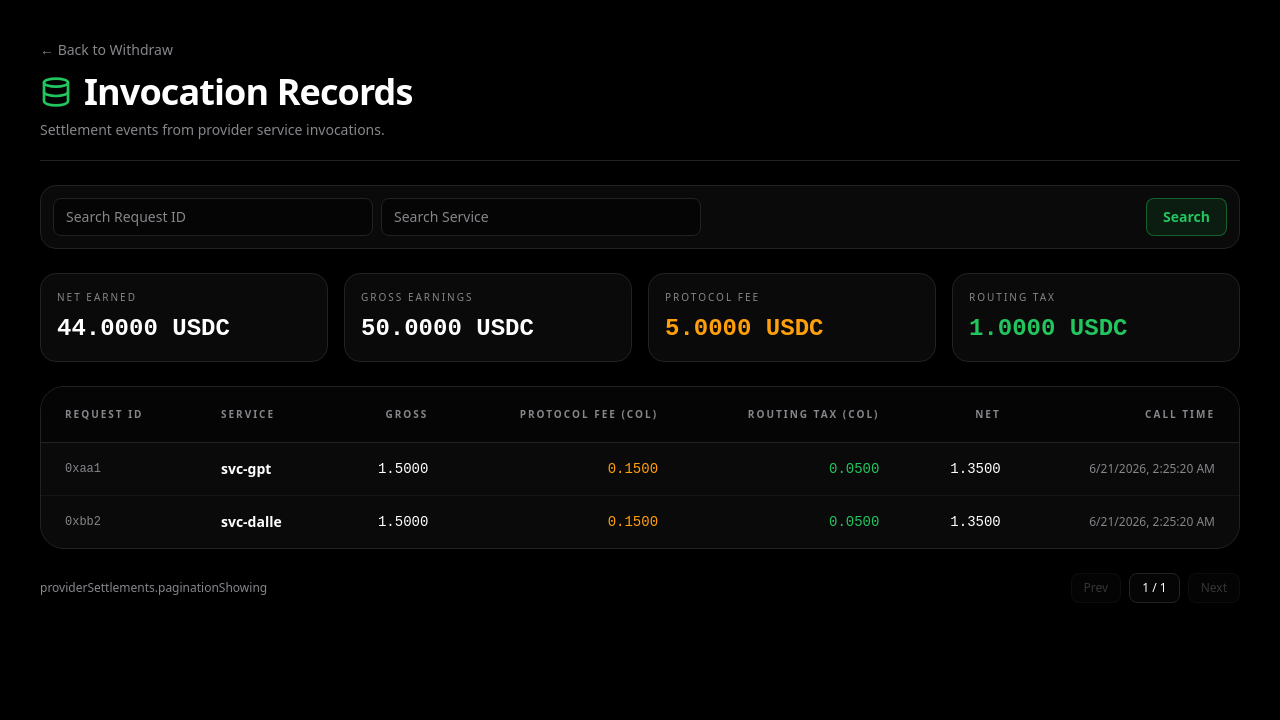
Scenario: ProviderWithdrawHistoryPage (Invocation Records) › filters by service name
Check: the text "0xaa1" is shown, box [41,442,197,496]
Type "dalle" into the field with placeholder "Search Service" at (541, 217), box [381,198,701,236]
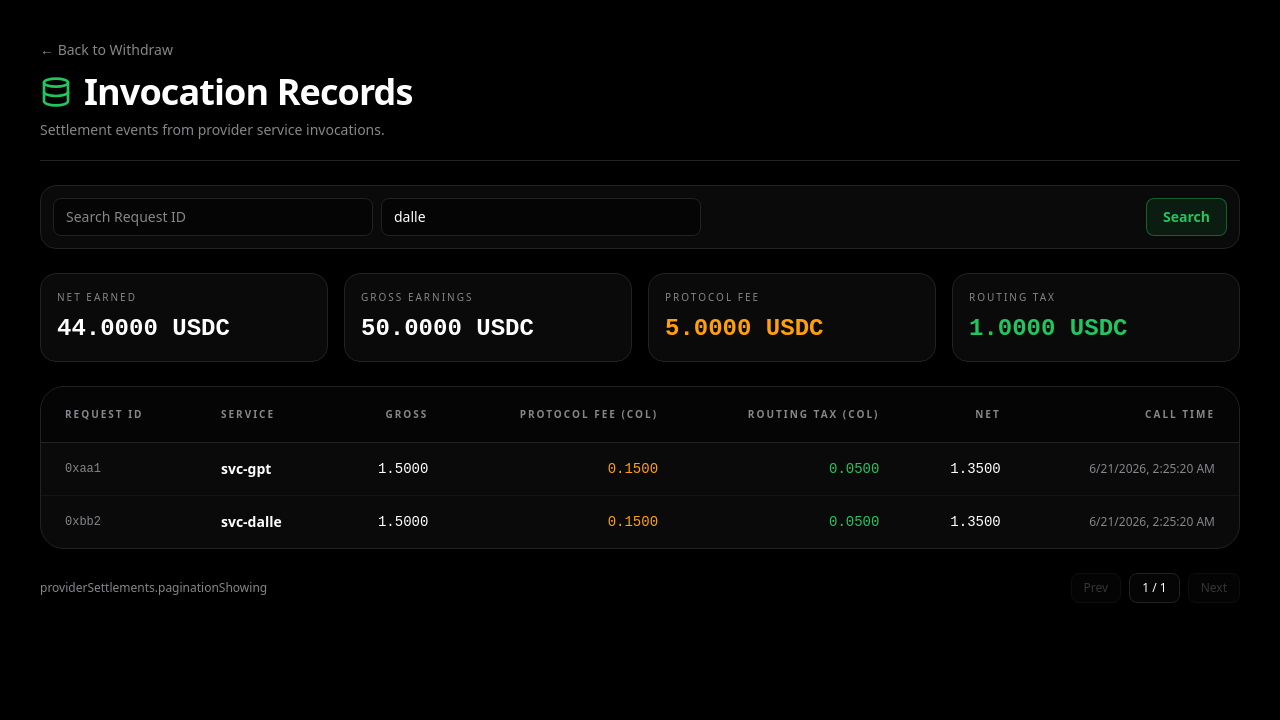
Click the button "Search" at (1187, 217), box [1146,198,1227,236]
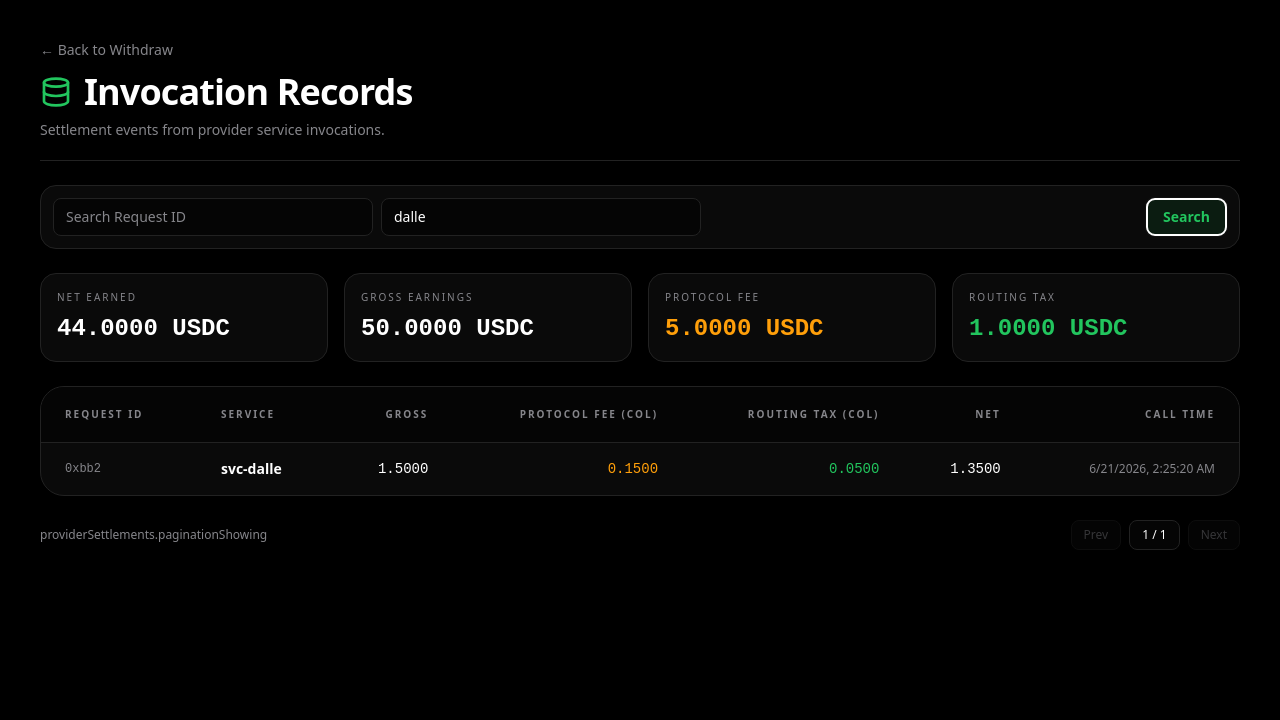
Check: the text "0xbb2" is shown, box [41,442,197,495]
Check: the text "0xaa1" is gone
